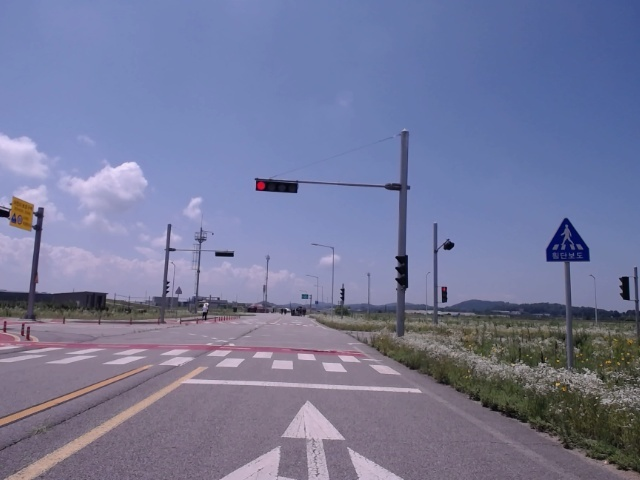red_4: (256, 181, 297, 193)
